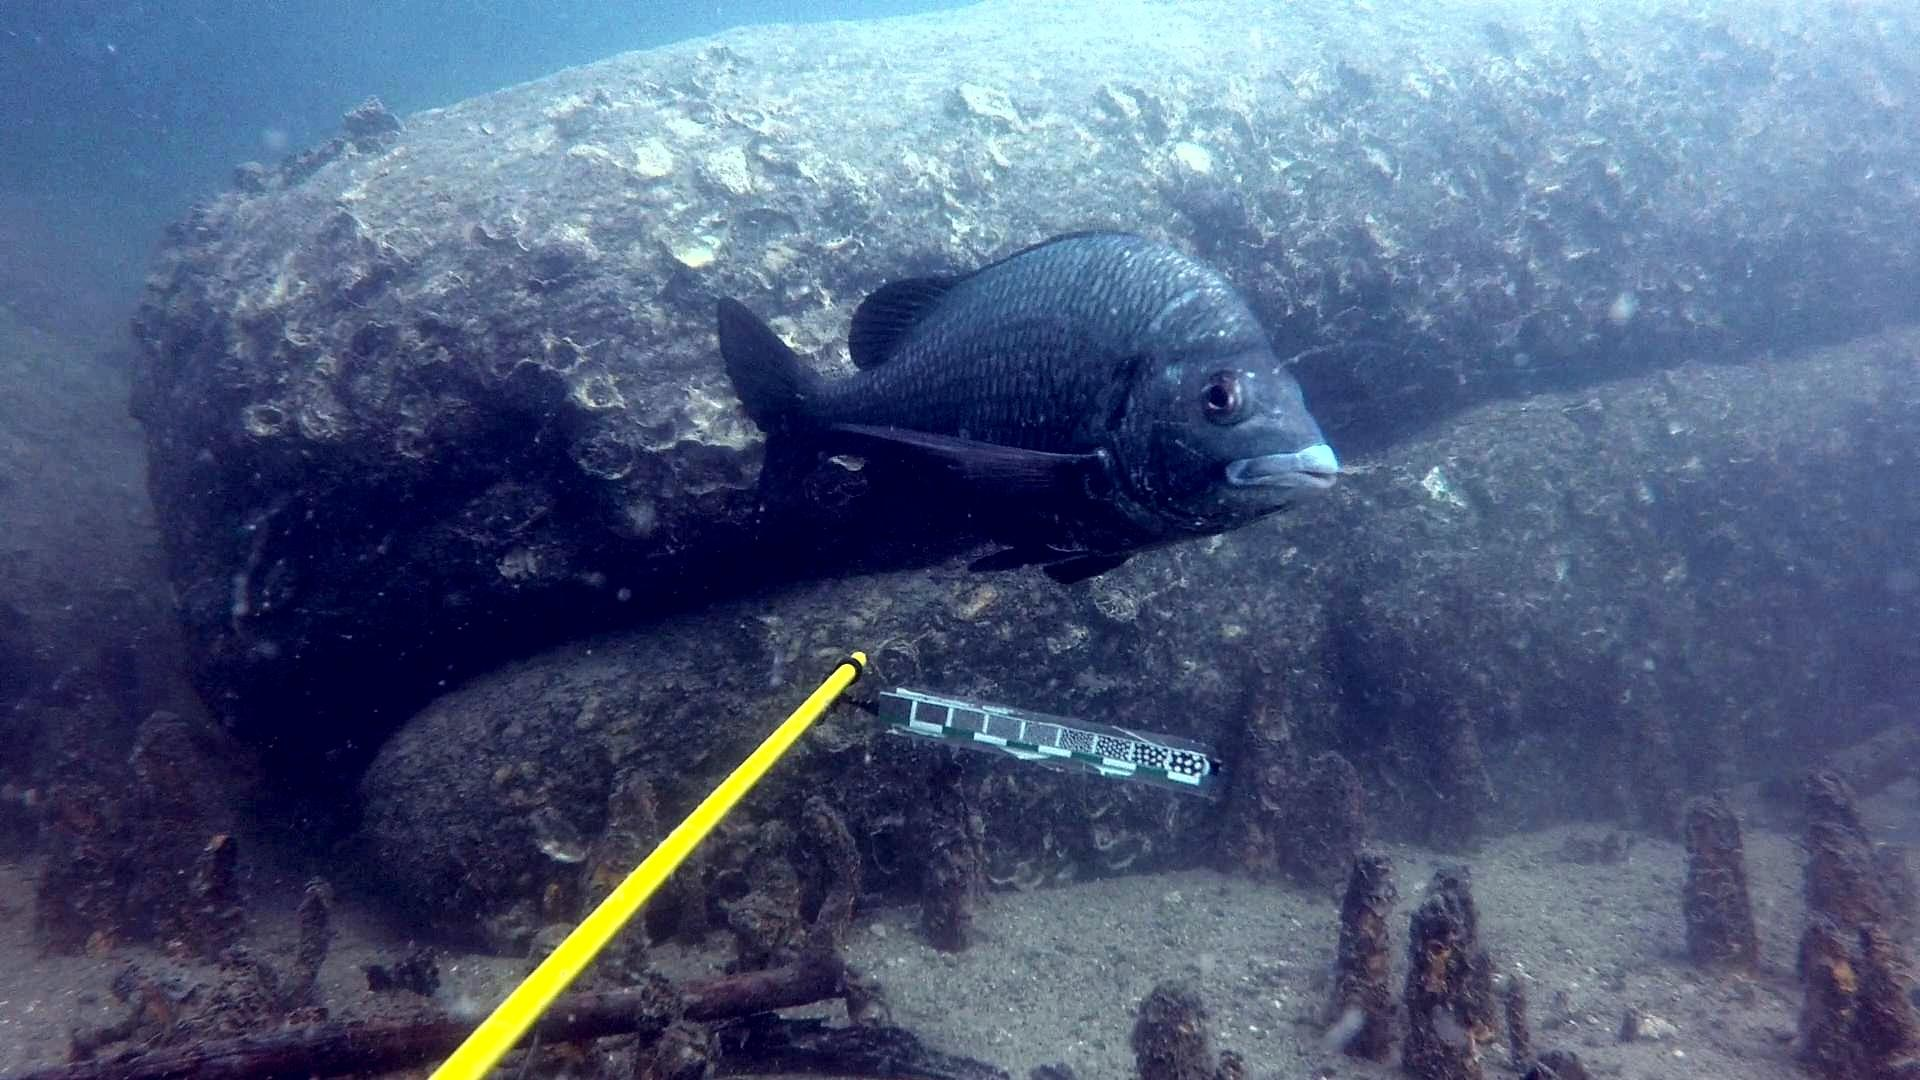acanthopagrus palmaris: (698, 211, 1345, 596)
